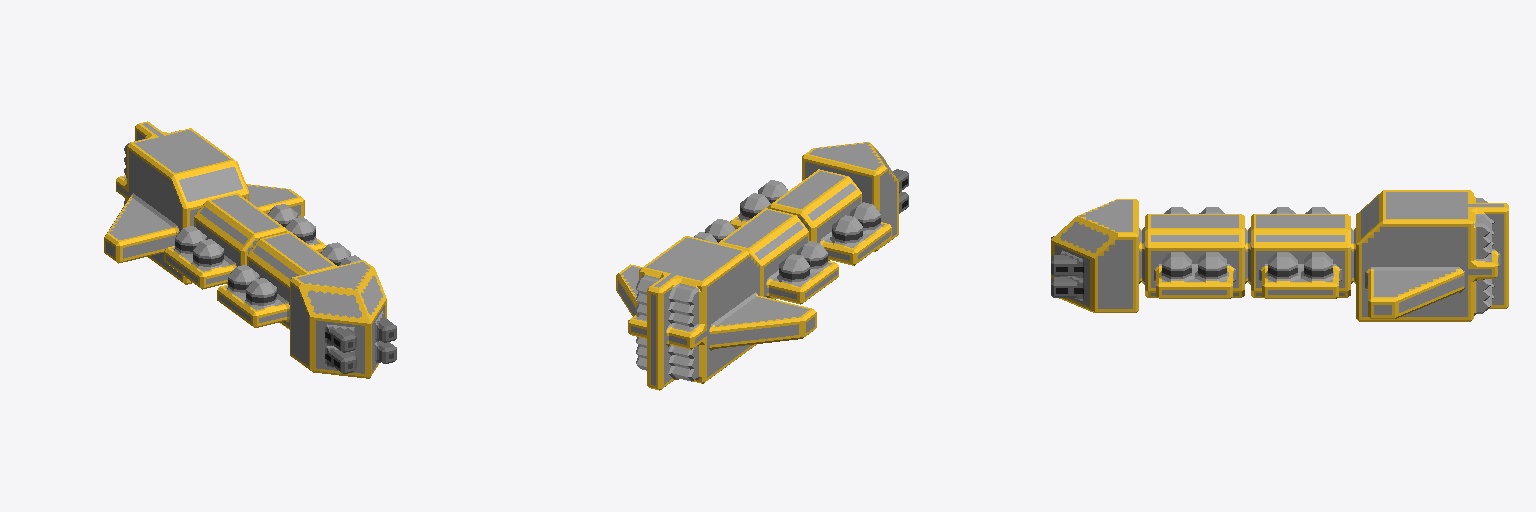
The picture shows the model from 3 angles: view 1: azimuth 30°, elevation 25°; view 2: azimuth 150°, elevation 25°; view 3: azimuth 270°, elevation 25°; orthographic projection.
Bounding box in the file's own units: 37 × 19 × 78.
1 materials, 1 textured.